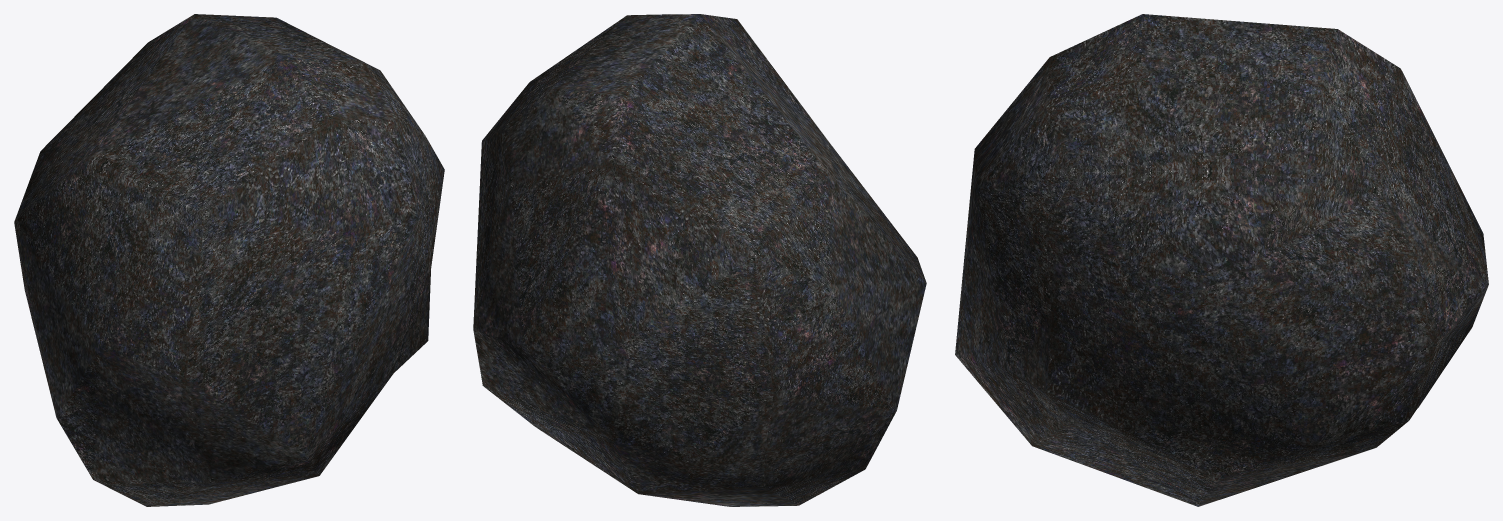
Rendered from asteroid_metal_radial_s01_l1.fbx.
3 views of the same model, side by side, from view 1: azimuth 30°, elevation 25°; view 2: azimuth 150°, elevation 25°; view 3: azimuth 270°, elevation 25° (orthographic). The views are drawn at different scales.
Parts seen in each view (by area): view 1: mesh_node; view 2: mesh_node; view 3: mesh_node.
Part boxes in pixels (bbox=[...]): mesh_node: bbox=[14, 14, 444, 506]; mesh_node: bbox=[473, 14, 926, 506]; mesh_node: bbox=[955, 14, 1488, 506].
Size of the model in its own units: 4.6 by 5.21 by 4.82.
